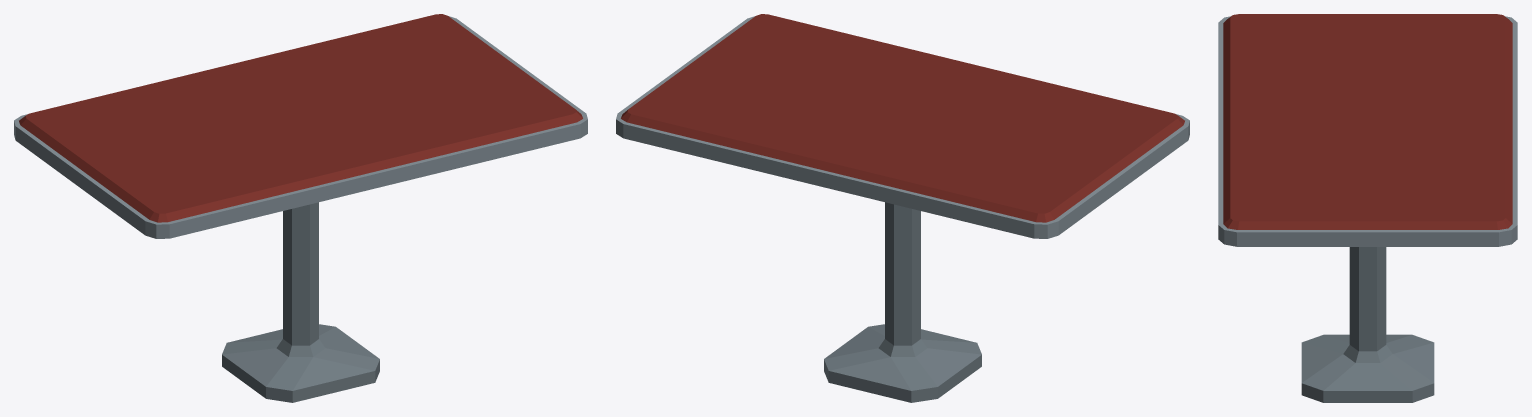
The model's file is SM_Prop_Cafe_Table_Large_01.obj.
3 renders of one model, left to right at view 1: azimuth 30°, elevation 25°; view 2: azimuth 150°, elevation 25°; view 3: azimuth 270°, elevation 25°, orthographic.
Parts seen in each view (by area): view 1: SM_Prop_Cafe_Table_Large_01_0; view 2: SM_Prop_Cafe_Table_Large_01_0; view 3: SM_Prop_Cafe_Table_Large_01_0.
Part boxes in pixels (box(x1,y1,x2,y2)): SM_Prop_Cafe_Table_Large_01_0: box(14, 14, 587, 402); SM_Prop_Cafe_Table_Large_01_0: box(616, 14, 1189, 402); SM_Prop_Cafe_Table_Large_01_0: box(1218, 14, 1517, 402).
Size of the model in its own units: 1.99 by 1.1 by 1.16.
1 material, 1 textured.
